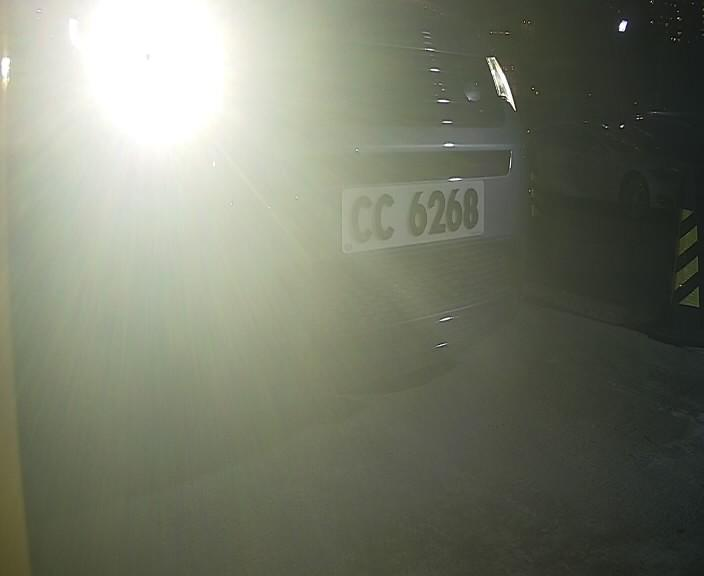Car: (26, 26, 639, 484)
License Plate: (333, 157, 497, 270)
